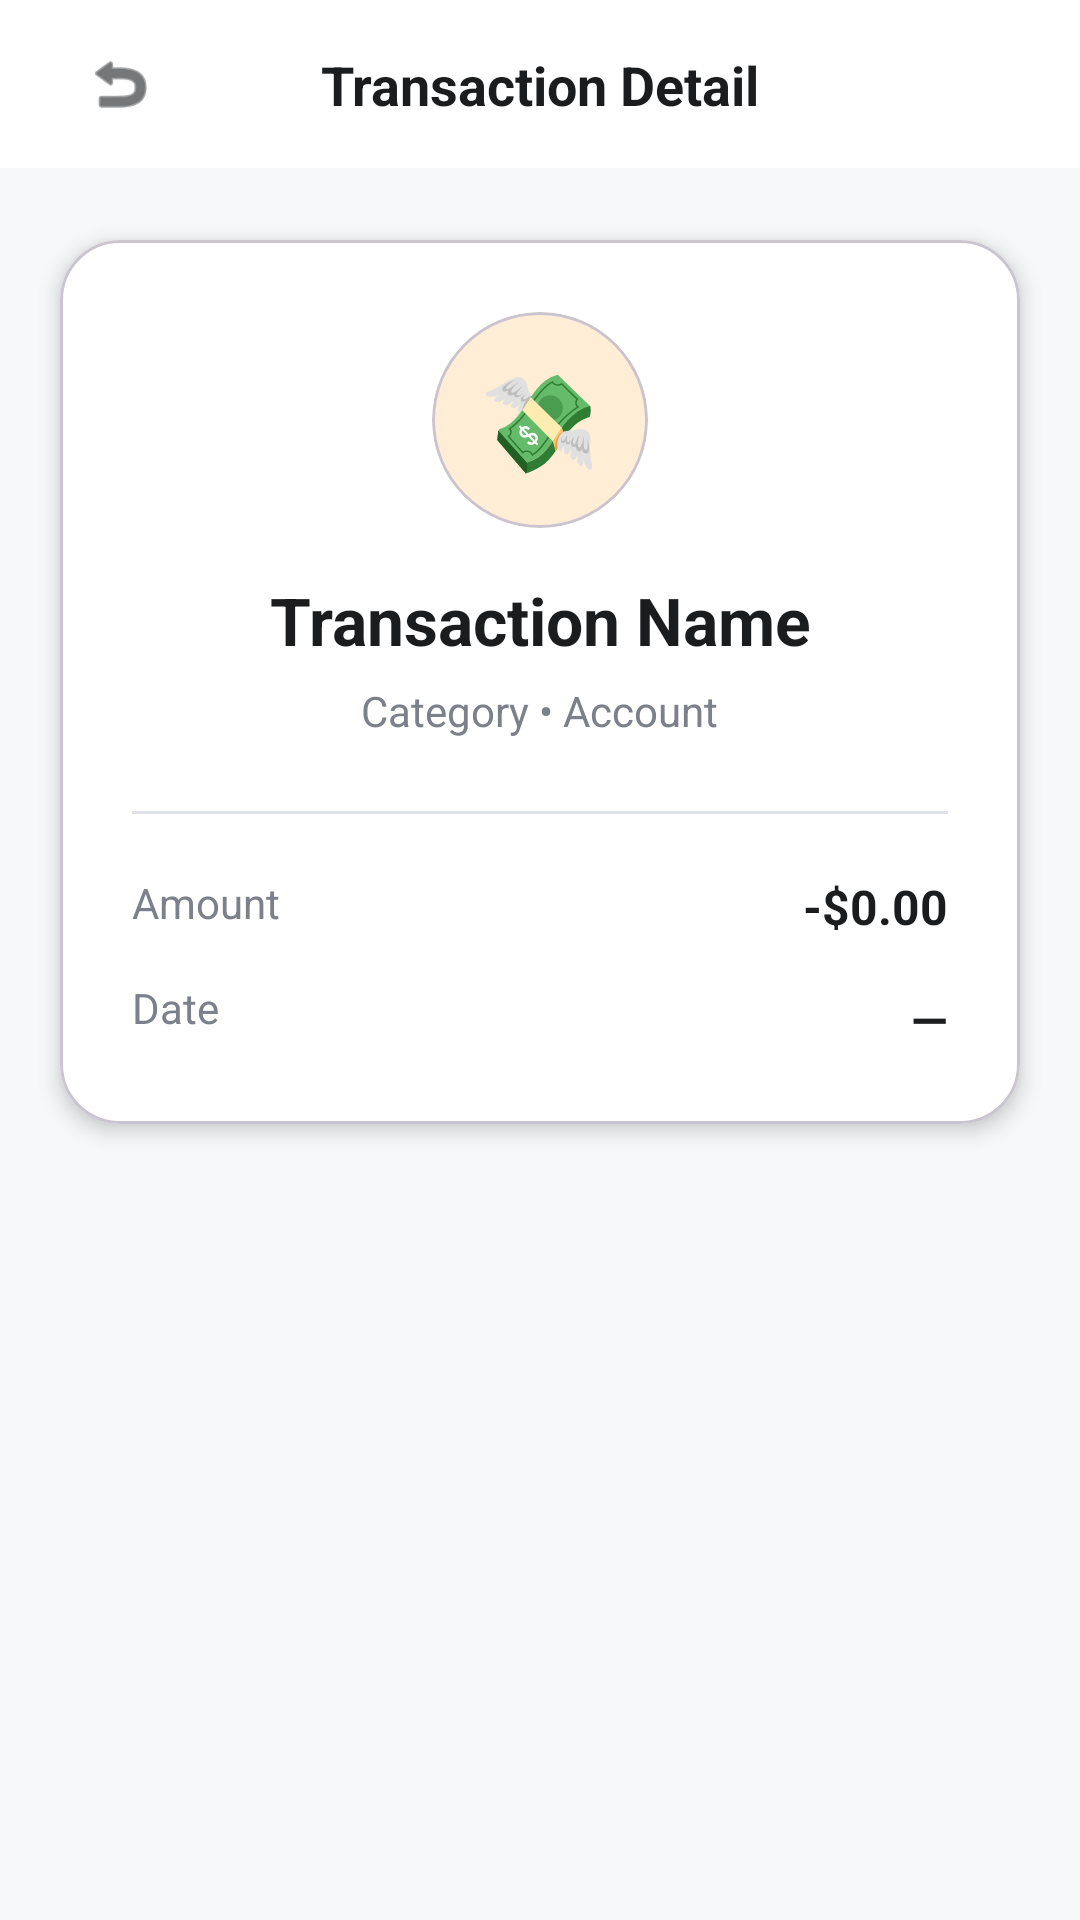

Icon click points for this 1080px×1920px phone screenshot, format (x,y):
revert: (121,84)
